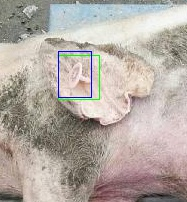text: (58, 55, 99, 99)
